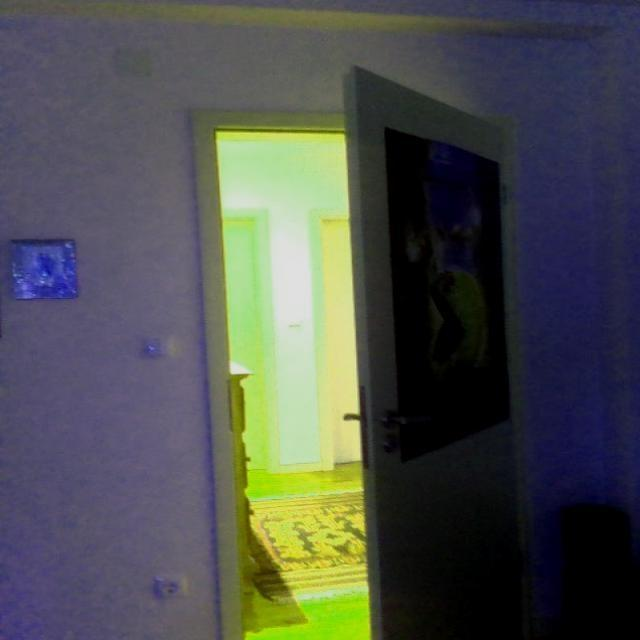door: (344, 64, 528, 638)
